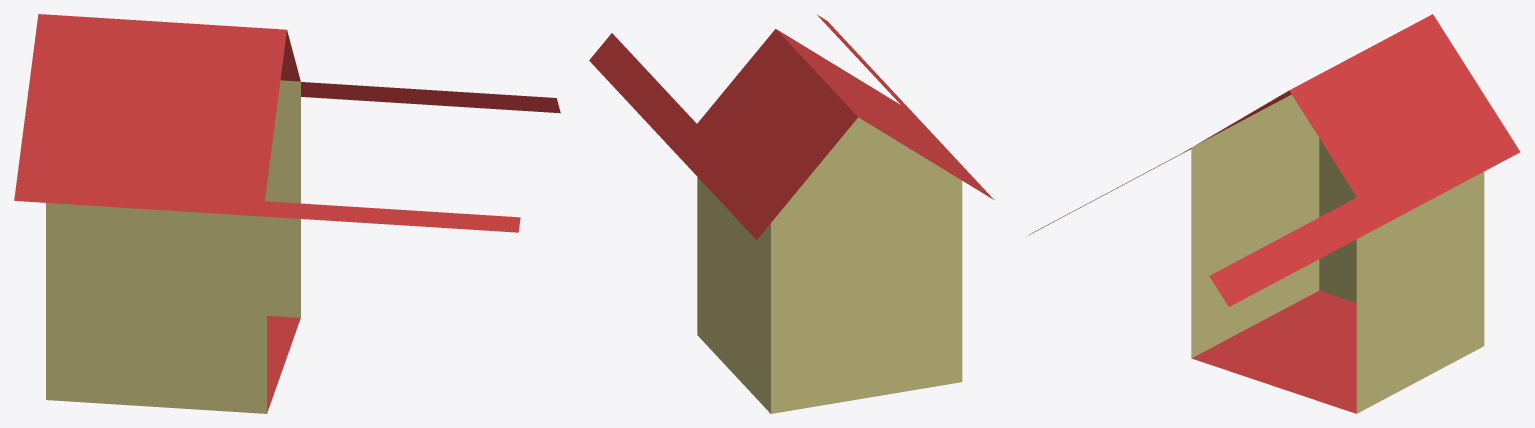
The picture shows the model from 3 angles, left to right: view 1: azimuth 30°, elevation 25°; view 2: azimuth 150°, elevation 25°; view 3: azimuth 270°, elevation 25°; orthographic projection. The views are drawn at different scales.
Bounding box in the file's own units: 20.6 × 19.32 × 12.9.
